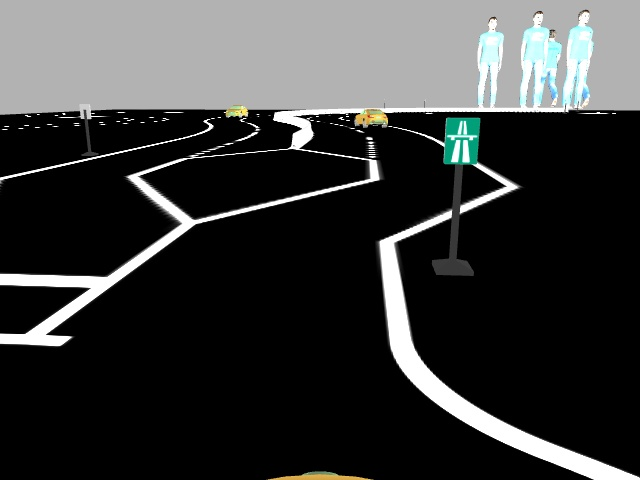HighwayEntrance: (442, 115, 483, 165)
